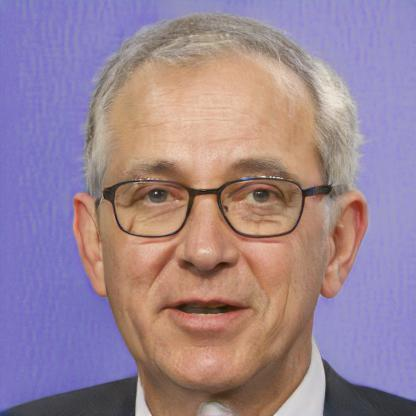glasses: (102, 172, 313, 243)
